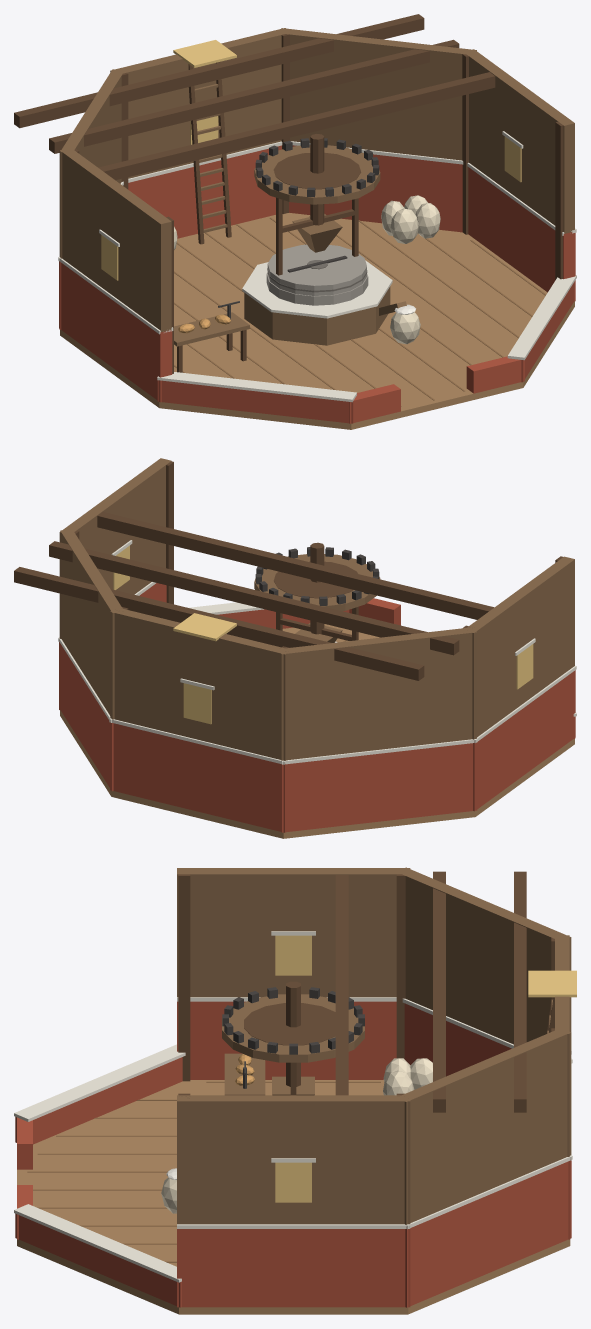
Rendered from mill_interior.glb.
3 renders of one model, top to bottom at view 1: azimuth 30°, elevation 25°; view 2: azimuth 150°, elevation 25°; view 3: azimuth 270°, elevation 25°, orthographic. The views are drawn at different scales.
Visible parts, largest first — view 1: mill-timber, mill-floor, mill-brick, mill-beam, mill-trim, mill-runner-stone, mill-gears-beam, mill-plank, mill-sack, mill-window, mill-gears-timber, mill-gears-iron (+1 smaller); view 2: mill-timber, mill-brick, mill-beam, mill-floor, mill-trim, mill-window, mill-gears-beam, mill-gears-timber, mill-gears-iron; view 3: mill-timber, mill-brick, mill-floor, mill-beam, mill-trim, mill-window, mill-gears-beam, mill-gears-timber, mill-plank, mill-sack, mill-gears-iron.
Boxes of the visible parts, bbox=[...] form: mill-timber: bbox=[59, 28, 574, 346]; mill-floor: bbox=[60, 213, 574, 429]; mill-brick: bbox=[59, 145, 575, 423]; mill-beam: bbox=[14, 14, 563, 373]; mill-trim: bbox=[58, 131, 576, 402]; mill-runner-stone: bbox=[267, 244, 366, 295]; mill-gears-beam: bbox=[273, 134, 360, 225]; mill-plank: bbox=[174, 216, 546, 406]; mill-sack: bbox=[174, 195, 440, 344]; mill-window: bbox=[101, 40, 521, 280]; mill-gears-timber: bbox=[254, 145, 380, 204]; mill-gears-iron: bbox=[255, 138, 379, 197]; mill-timber: bbox=[59, 458, 574, 760]; mill-brick: bbox=[59, 583, 575, 832]; mill-beam: bbox=[14, 461, 562, 680]; mill-floor: bbox=[60, 624, 574, 838]; mill-trim: bbox=[58, 540, 576, 764]; mill-window: bbox=[113, 545, 533, 724]; mill-gears-beam: bbox=[273, 542, 357, 634]; mill-gears-timber: bbox=[254, 554, 380, 611]; mill-gears-iron: bbox=[255, 547, 379, 605]; mill-timber: bbox=[177, 867, 571, 1224]; mill-brick: bbox=[15, 1001, 571, 1307]; mill-floor: bbox=[17, 1080, 570, 1314]; mill-beam: bbox=[178, 871, 554, 1112]; mill-trim: bbox=[14, 931, 572, 1282]; mill-window: bbox=[275, 935, 576, 1202]; mill-gears-beam: bbox=[244, 981, 335, 1086]; mill-gears-timber: bbox=[222, 994, 364, 1062]; mill-plank: bbox=[27, 1081, 380, 1262]; mill-sack: bbox=[161, 1058, 432, 1213]; mill-gears-iron: bbox=[222, 987, 364, 1054].
Bounding box in the file's own units: 13.81 × 5.9 × 13.91.
